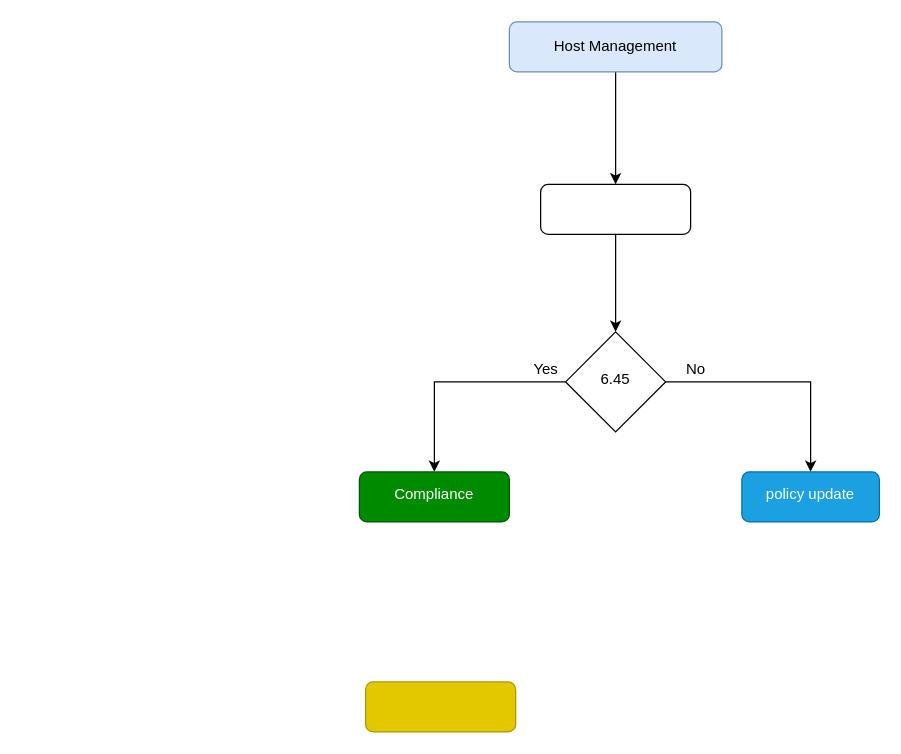
Some shapes in this 901 by 754 pixel diagram are drawn without their labels. The centre of each missing label's shape, as x and y in pixels:
Check Sensor Version: (x=615, y=208)
Solve by Kernel Update: (x=440, y=706)
